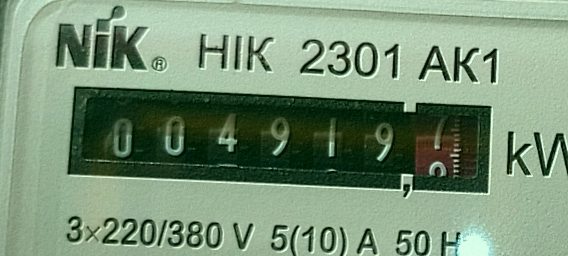0: (160, 112, 188, 158), (109, 114, 135, 159)
1: (323, 113, 340, 160)
4: (214, 109, 240, 153)
7: (424, 111, 449, 152)
9: (370, 118, 396, 166), (267, 114, 292, 159)
screen: (55, 71, 509, 211)
